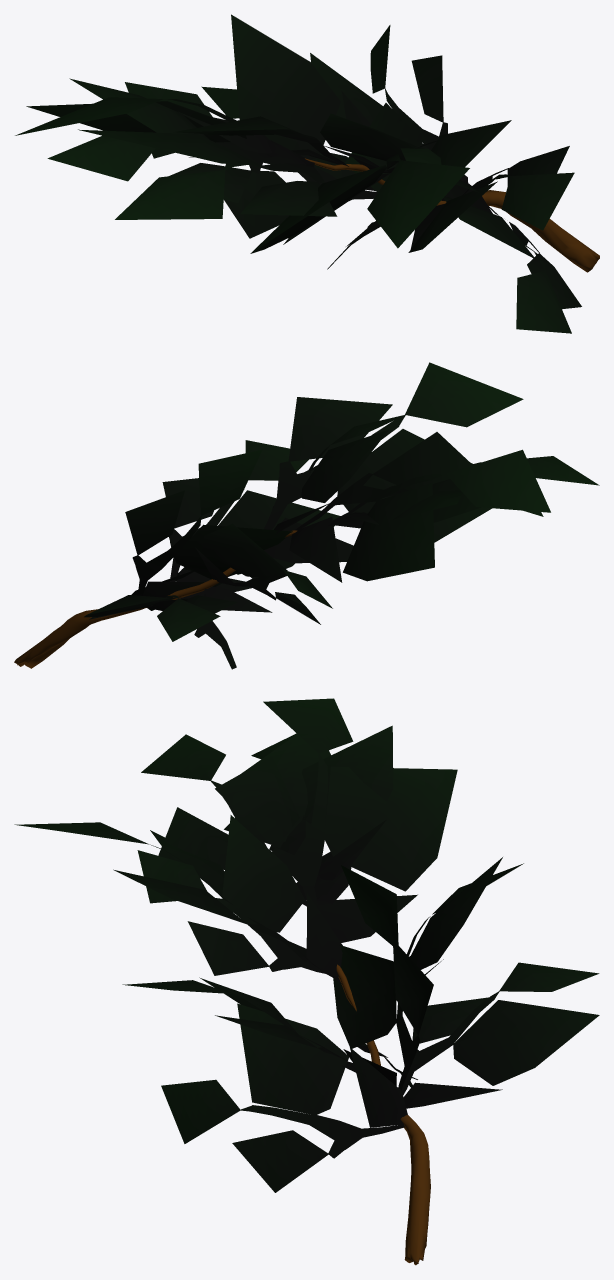
The model's file is beech_dry_bough_03.FBX.
3 views of the same model, one above another, from view 1: azimuth 30°, elevation 25°; view 2: azimuth 150°, elevation 25°; view 3: azimuth 270°, elevation 25° (orthographic). The views are drawn at different scales.
Parts seen in each view (by area): view 1: beech_dry_bough_leaves_03_LOD0, beech_dry_bough_branch_03_LOD0; view 2: beech_dry_bough_leaves_03_LOD0, beech_dry_bough_branch_03_LOD0; view 3: beech_dry_bough_leaves_03_LOD0, beech_dry_bough_branch_03_LOD0.
Part boxes in pixels (x1,y1,x2,y2): beech_dry_bough_leaves_03_LOD0: [15, 14, 581, 333]; beech_dry_bough_branch_03_LOD0: [305, 158, 599, 272]; beech_dry_bough_leaves_03_LOD0: [84, 362, 599, 669]; beech_dry_bough_branch_03_LOD0: [14, 530, 297, 668]; beech_dry_bough_leaves_03_LOD0: [14, 698, 599, 1192]; beech_dry_bough_branch_03_LOD0: [336, 964, 430, 1265].
Size of what is drawn, in the model's own units: 9612 by 5084 by 8432.
